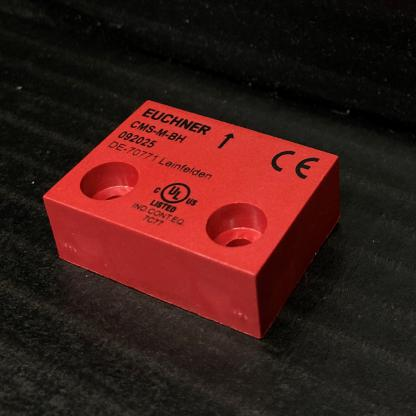SP0000001: (18, 72, 350, 372)
